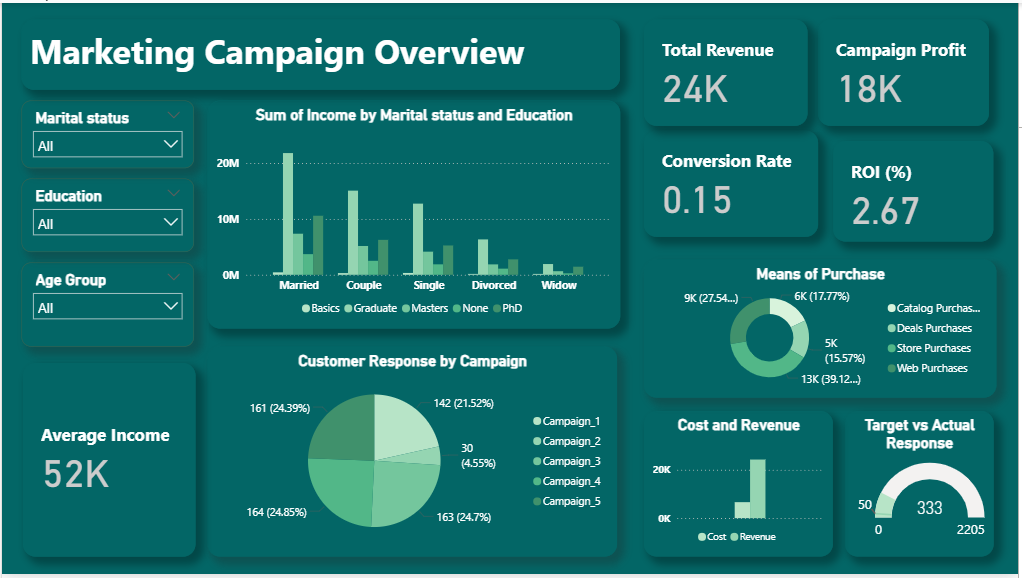

The dashboard page shown, as its layout file describes it:
{"tool":"powerbi","page":{"name":"Marketing campaign overview","canvas":[1280,720],"ordinal":0},"visuals":[{"type":"cardVisual","fields":{"Data":["ifood_df.Campaign Profit"]},"box":[1028,20.8,215.4,134.2],"z":0},{"type":"textbox","box":[24.6,20.8,754,88.8],"z":1000},{"type":"cardVisual","fields":{"Data":["ifood_df.ROI (%)"]},"box":[1046.9,173.9,202.2,126.6],"z":2000},{"type":"cardVisual","fields":{"Data":["ifood_df.Conversion rate (%)"]},"box":[808.8,160.6,219.2,134.2],"z":3000},{"type":"cardVisual","fields":{"Data":["ifood_df.Total Revenue"]},"box":[808.8,20.8,206,134.2],"z":4000},{"type":"gauge","title":"Target vs Actual Response  ","fields":{"TargetValue":["ifood_df.Target Response"],"MaxValue":["ifood_df.Total Campaigns"],"Y":["ifood_df.Actual Response"]},"box":[1062.1,514,187.1,183.3],"z":5000},{"type":"clusteredColumnChart","fields":{"Y":["Sum(ifood_df.Income)"],"Category":["ifood_df.Marital status"],"Series":["ifood_df.Education"]},"box":[258.9,122.8,519.7,287.2],"z":6000},{"type":"donutChart","title":"Means of Purchase","fields":{"Y":["Sum(ifood_df.No.CatalogPurchases)","Sum(ifood_df.No.DealsPurchases)","Sum(ifood_df.No.StorePurchases)","Sum(ifood_df.No.WebPurchases)"]},"box":[808.8,323.2,444.1,173.9],"z":7000},{"type":"pieChart","title":"Customer Response by Campaign","fields":{"Y":["Sum(ifood_df.Campaign_1)","Sum(ifood_df.Campaign_2)","Sum(ifood_df.Campaign_3)","Sum(ifood_df.Campaign_4)","Sum(ifood_df.Campaign_5)"]},"box":[258.9,432.8,515.9,264.6],"z":8000},{"type":"clusteredColumnChart","fields":{"Y":["Sum(ifood_df.Z_CostContact)","Sum(ifood_df.Z_Revenue)"]},"box":[808.8,514,238.1,183.3],"z":9000},{"type":"slicer","fields":{"Values":["ifood_df.Education"]},"box":[24.6,221.1,217.3,92.6],"z":10000},{"type":"slicer","fields":{"Values":["ifood_df.Marital status"]},"box":[24.6,122.8,217.3,85],"z":11000},{"type":"slicer","fields":{"Values":["ifood_df.Age Group "]},"box":[24.6,326.9,217.3,105.8],"z":12000},{"type":"cardVisual","fields":{"Data":["ifood_df.Average Income"]},"box":[26.5,453.5,217.3,243.8],"z":13000}]}

Visuals, with their boxes in screenshot pixels (x1, y1, x2, y2), scaled from the page's 1280x720 canvas onto the 1022x578 screenshot:
cardVisual - ifood_df.Campaign Profit: box(821, 17, 993, 124)
textbox: box(20, 17, 622, 88)
cardVisual - ifood_df.ROI (%): box(836, 140, 997, 241)
cardVisual - ifood_df.Conversion rate (%): box(646, 129, 821, 237)
cardVisual - ifood_df.Total Revenue: box(646, 17, 810, 124)
"Target vs Actual Response  " gauge: box(848, 413, 997, 560)
clusteredColumnChart - Sum(ifood_df.Income) x ifood_df.Marital status: box(207, 99, 622, 329)
"Means of Purchase" donutChart: box(646, 259, 1000, 399)
"Customer Response by Campaign" pieChart: box(207, 347, 619, 560)
clusteredColumnChart - Sum(ifood_df.Z_CostContact) x Sum(ifood_df.Z_Revenue): box(646, 413, 836, 560)
slicer - ifood_df.Education: box(20, 177, 193, 252)
slicer - ifood_df.Marital status: box(20, 99, 193, 167)
slicer - ifood_df.Age Group : box(20, 262, 193, 347)
cardVisual - ifood_df.Average Income: box(21, 364, 195, 560)
